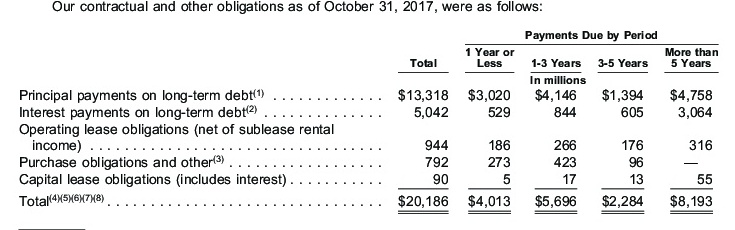table: (0, 0, 735, 230)
